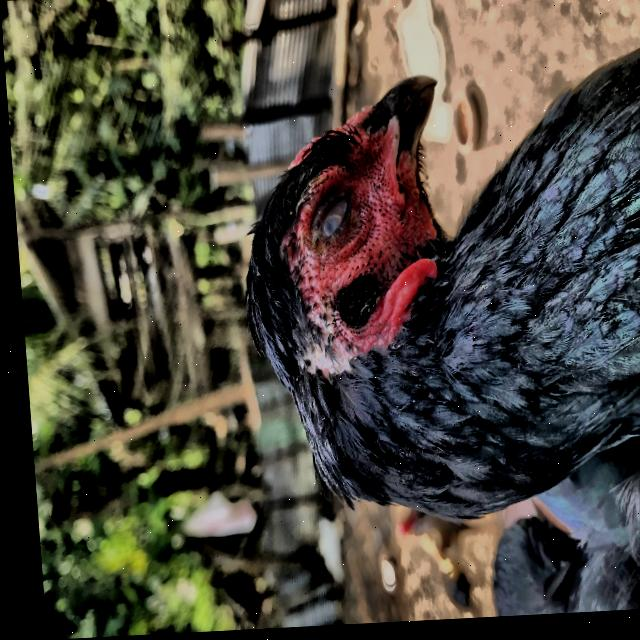Coryza: (216, 67, 640, 608)
